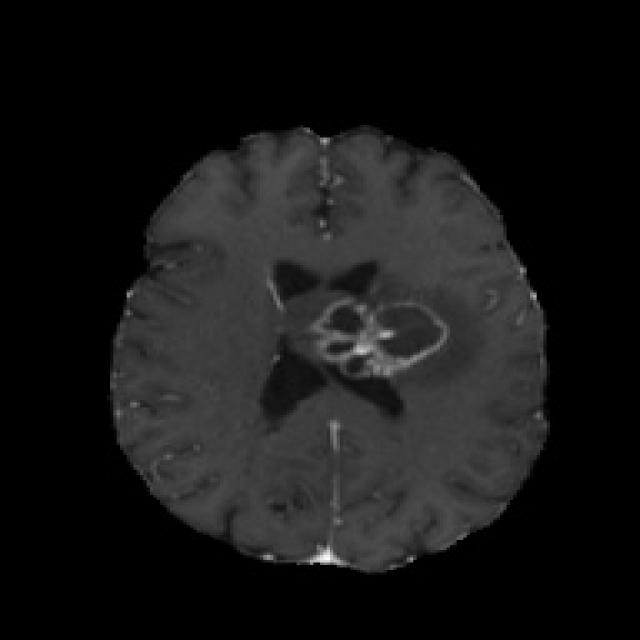negative: (318, 298, 448, 380)
